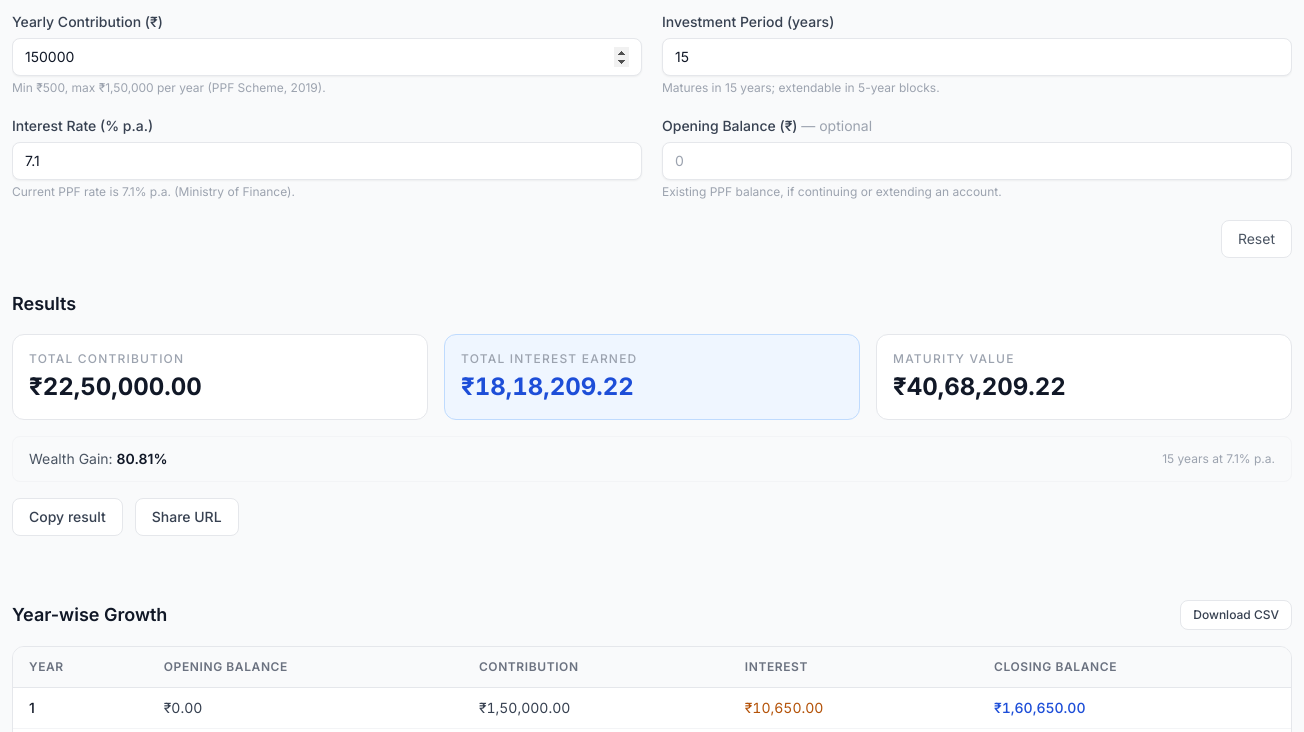
Test: PPFCalculator › hides results when contribution is invalid
Replace the text in the number field labelled "Yearly Contribution (₹)" with "100" at (327, 57), box [12,38,642,76]
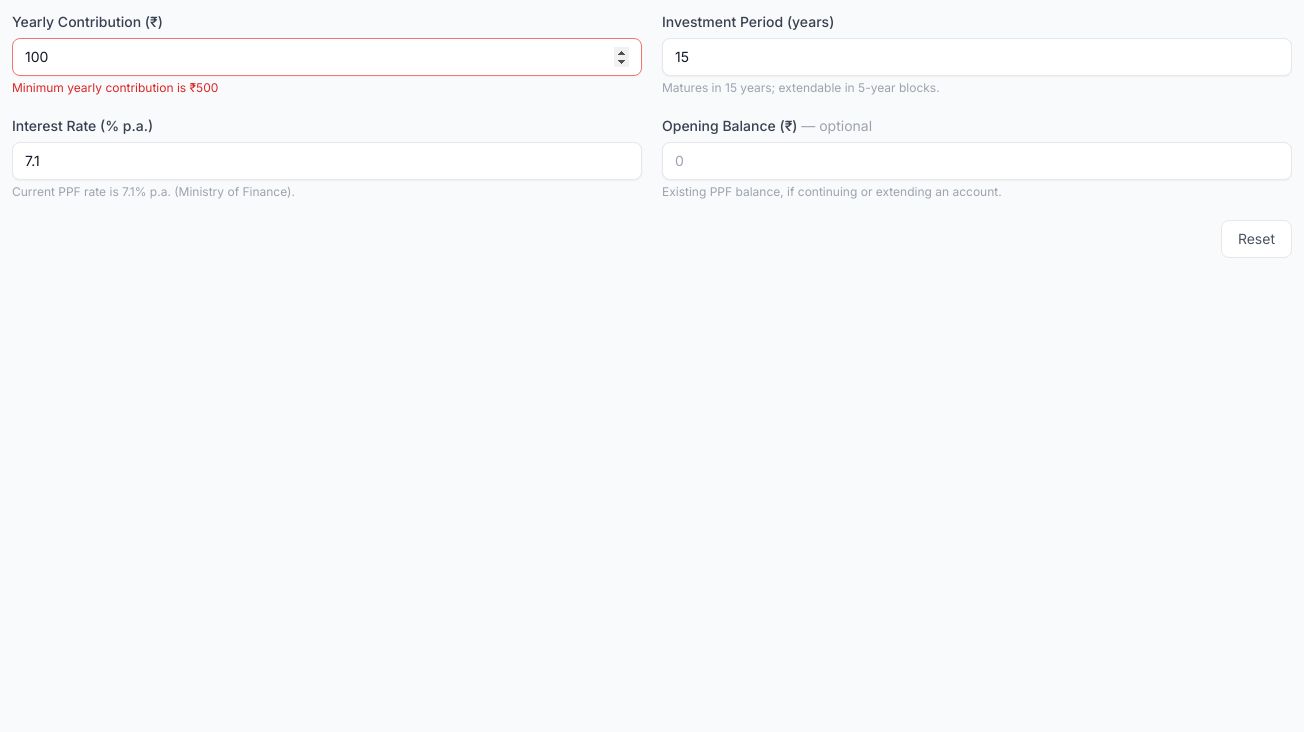
Expected: the heading "Results" is gone
